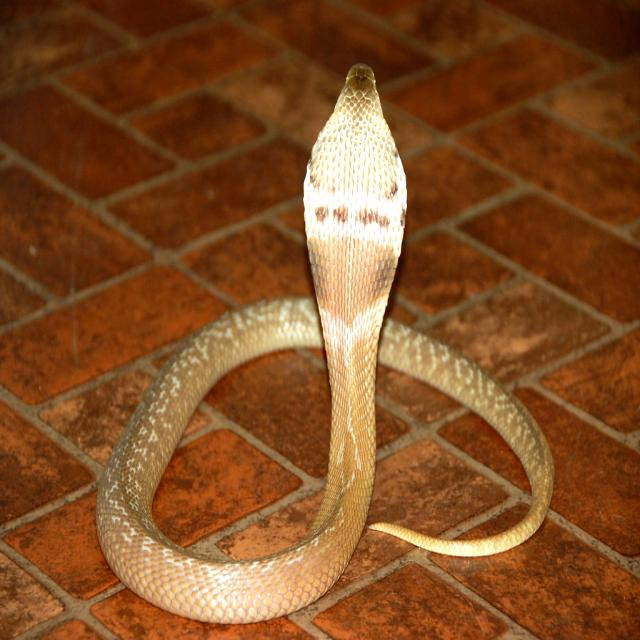Naja kaouthia: (97, 65, 553, 623)
snake: (97, 65, 553, 623)
